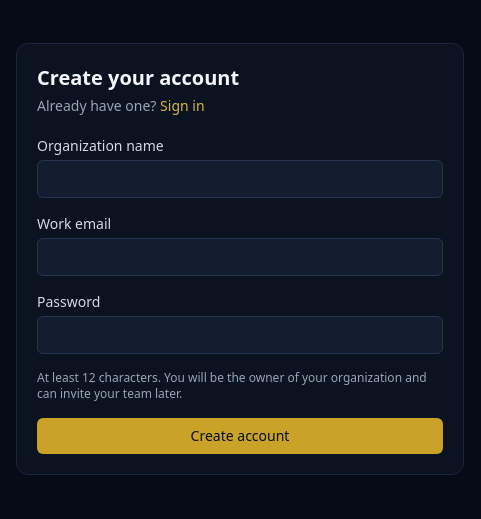
Scenario: RegisterPage › surfaces the server's conflict message
This screenshot has width=481, height=519.
In the field labelled "Organization name": (240,179) [37, 160, 443, 198], type "Acme"
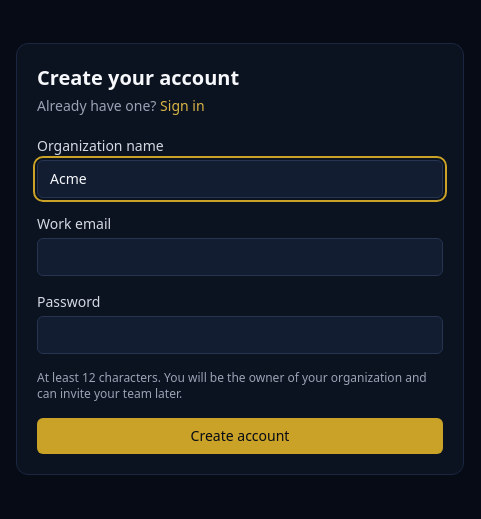
In the field labelled "Work email": (240,257) [37, 238, 443, 276], type "taken@example.com"
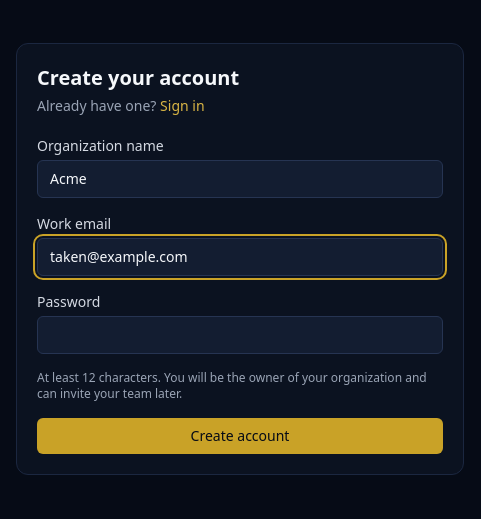
In the password field labelled "Password": (240,335) [37, 316, 443, 354], type "long-enough-password"
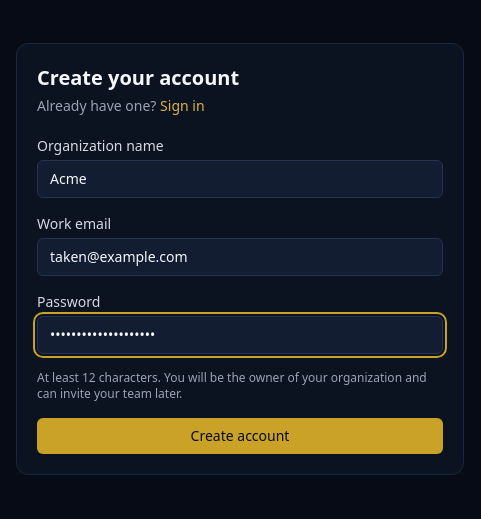
Click the button "Create account": (240,436) [37, 418, 443, 454]
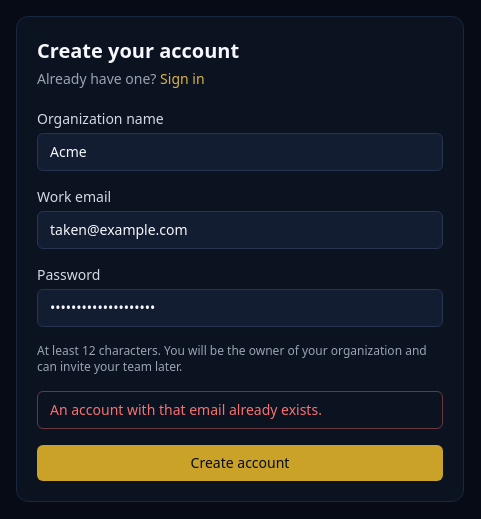
Now the message shows "already exists", box [50, 400, 322, 419]
